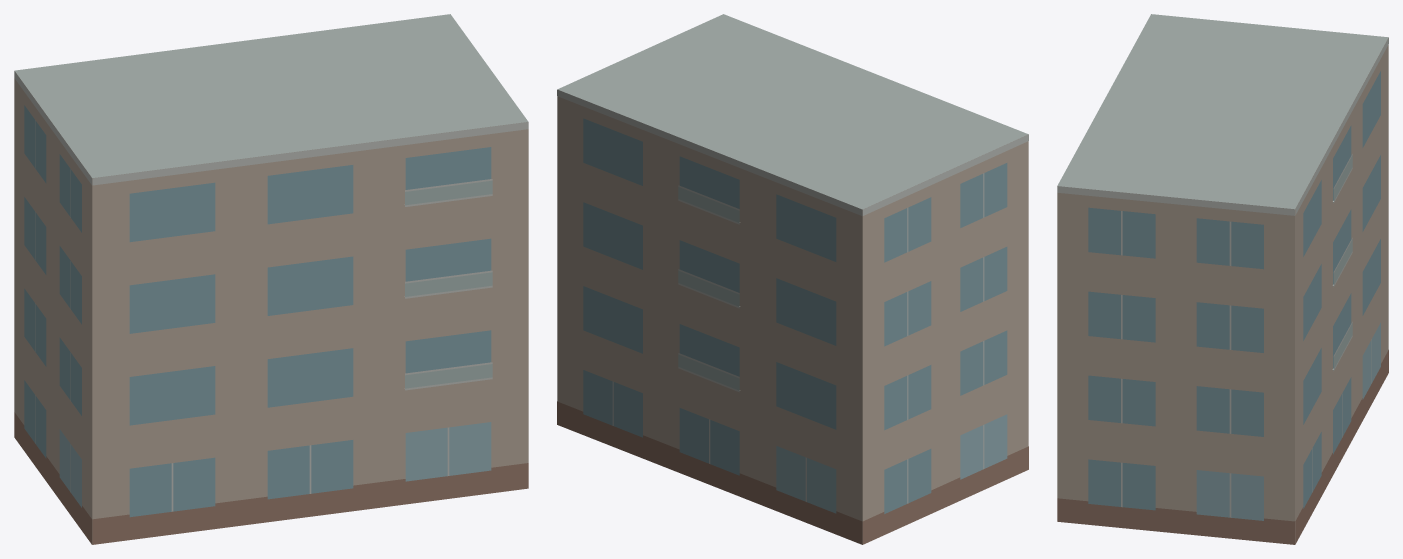
File: residential-2fe938ba-74ba-4b09-897a-20f6e5110f42.glb
3 renders of one model, left to right at view 1: azimuth 30°, elevation 25°; view 2: azimuth 150°, elevation 25°; view 3: azimuth 270°, elevation 25°, orthographic. The views are drawn at different scales.
Parts seen in each view (by area): view 1: residential-2fe938ba-74ba-4b09-897a-20f6e5110f42.tmp; view 2: residential-2fe938ba-74ba-4b09-897a-20f6e5110f42.tmp; view 3: residential-2fe938ba-74ba-4b09-897a-20f6e5110f42.tmp.
Part boxes in pixels (x1,y1,x2,y2): residential-2fe938ba-74ba-4b09-897a-20f6e5110f42.tmp: [14, 14, 528, 544]; residential-2fe938ba-74ba-4b09-897a-20f6e5110f42.tmp: [557, 14, 1028, 544]; residential-2fe938ba-74ba-4b09-897a-20f6e5110f42.tmp: [1057, 14, 1388, 544].
Size of the model in its own units: 15.23 by 12.2 by 10.93.
